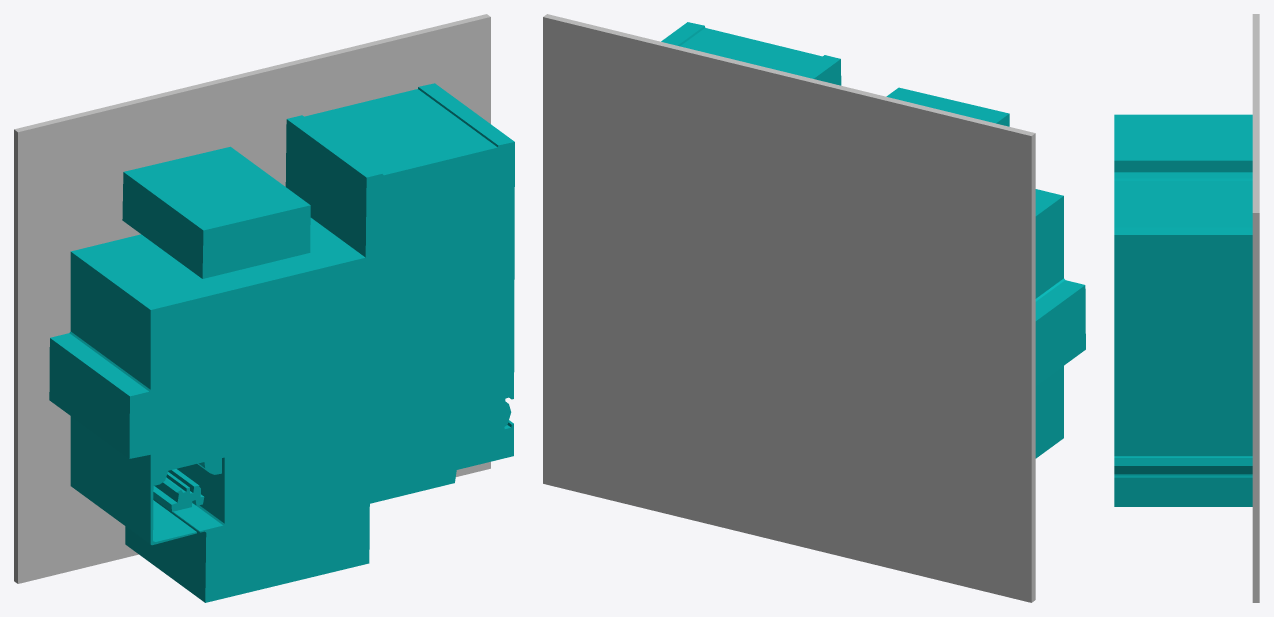
3 renders of one model, left to right at view 1: azimuth 30°, elevation 25°; view 2: azimuth 150°, elevation 25°; view 3: azimuth 270°, elevation 25°, orthographic. The views are drawn at different scales.
Parts seen in each view (by area): view 1: world; view 2: world; view 3: world.
Boxes of the visible parts, x1,y1,x2,y2 form: world: [14, 14, 514, 602]; world: [543, 14, 1085, 602]; world: [1114, 14, 1259, 602].
Size of the model in its own units: 10.23 by 9.34 by 3.15.
